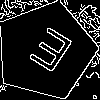E: (21, 26, 76, 83)
